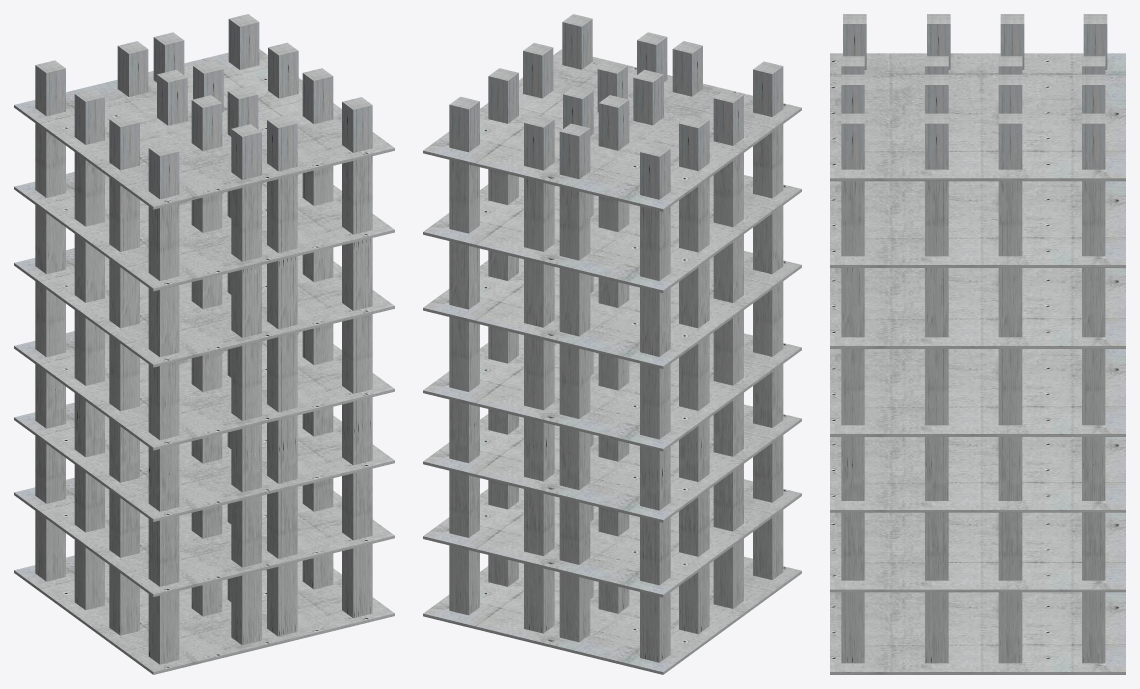
Rendered from constructionplant1.FBX.
3 renders of one model, left to right at view 1: azimuth 30°, elevation 25°; view 2: azimuth 150°, elevation 25°; view 3: azimuth 270°, elevation 25°, orthographic. The views are drawn at different scales.
Visible parts, largest first — view 1: Box001; view 2: Box001; view 3: Box001.
Part boxes in pixels (box(x1,y1,x2,y2)): Box001: box(14, 14, 394, 674); Box001: box(423, 14, 801, 674); Box001: box(830, 14, 1125, 674).
Bounding box in the file's own units: 128 × 128 × 259.
1 material, 1 textured.
